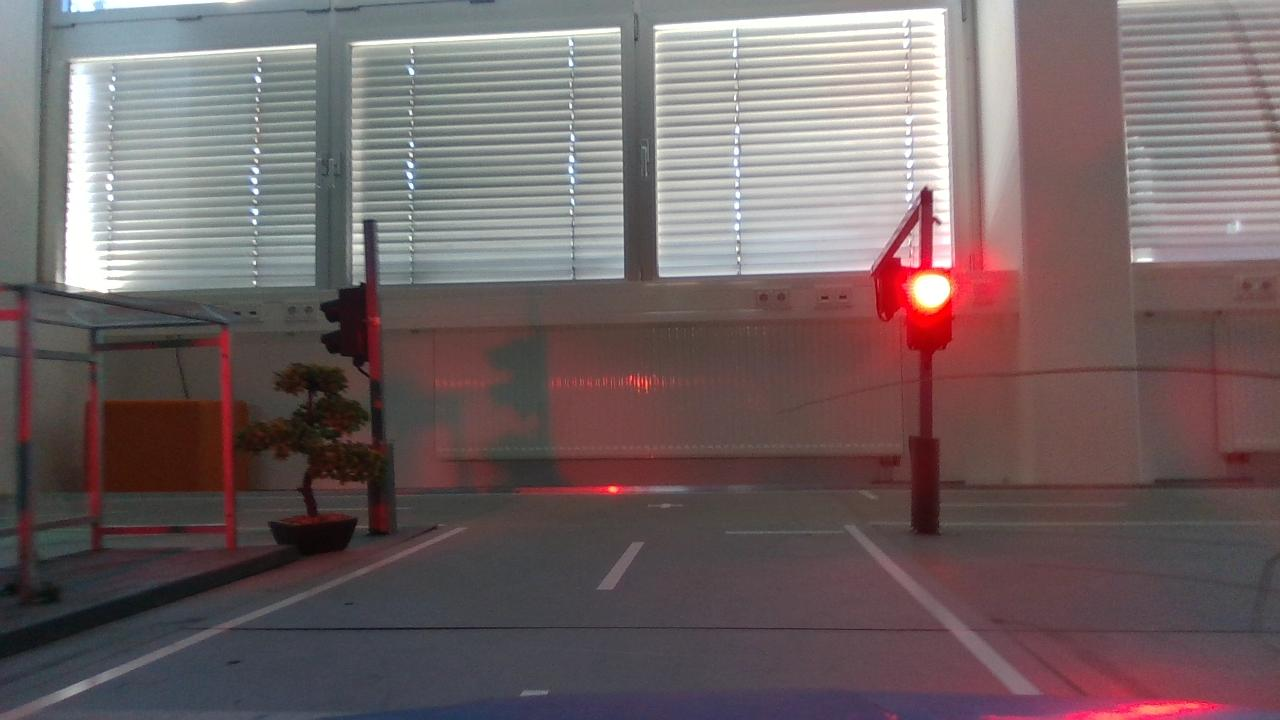traffic_light_red: (896, 261, 967, 363)
